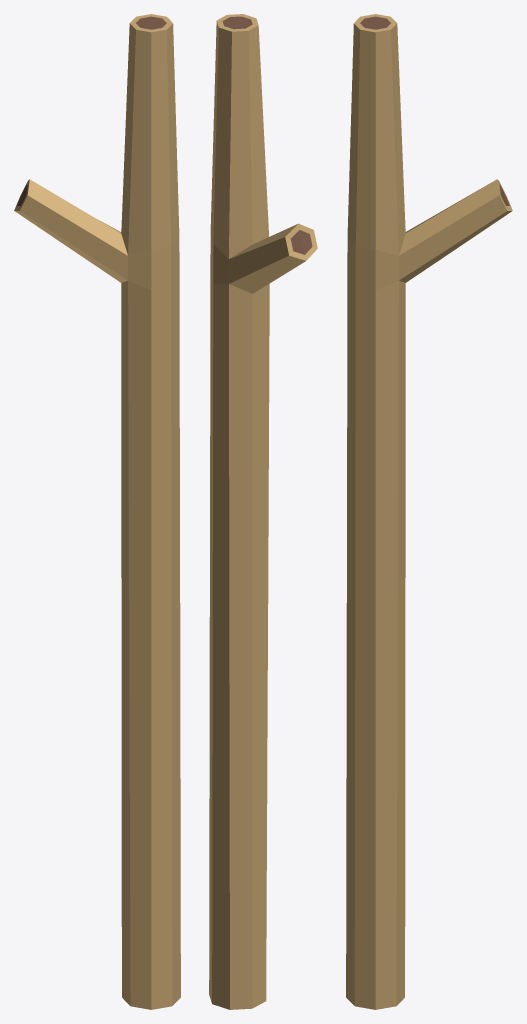
Rendered from Stick.fbx.
3 renders of one model, left to right at view 1: azimuth 90°, elevation 25°; view 2: azimuth 210°, elevation 25°; view 3: azimuth 270°, elevation 25°, orthographic.
Parts seen in each view (by area): view 1: stick; view 2: stick; view 3: stick.
Part boxes in pixels (left/top/right/bottom): stick: left=14, top=14, right=180, bottom=1009; stick: left=209, top=14, right=317, bottom=1009; stick: left=346, top=14, right=512, bottom=1009.
Size of the model in its own units: 11.99 by 218 by 33.89.
